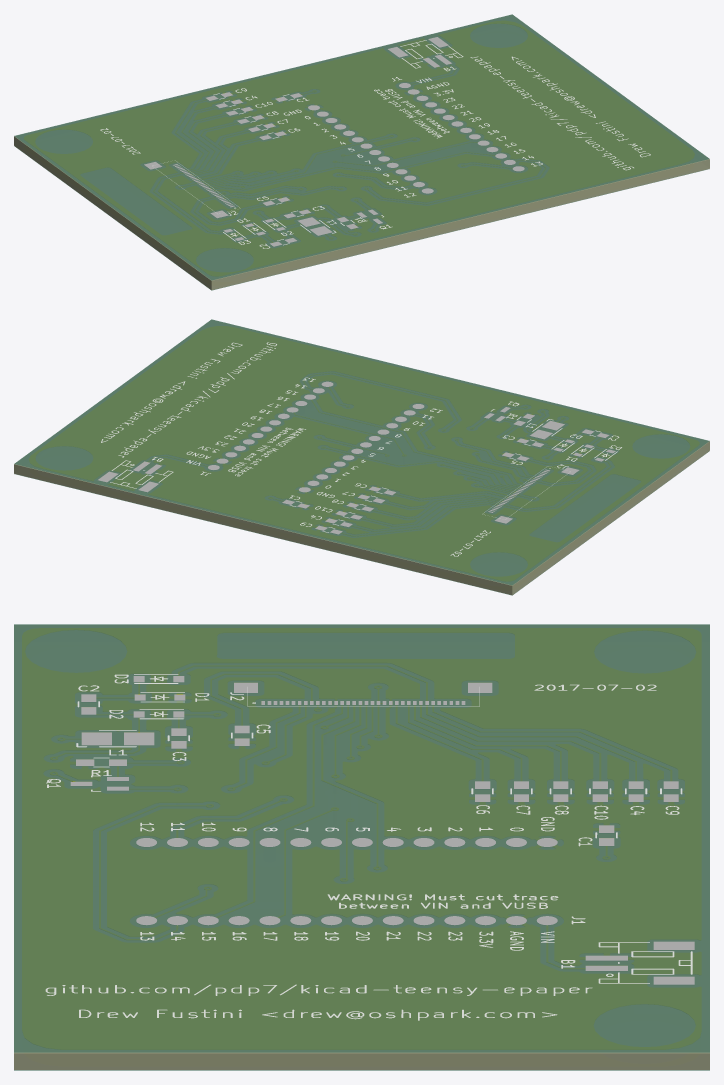
The model's file is e-paper-badge.glb.
3 renders of one model, top to bottom at view 1: azimuth 30°, elevation 25°; view 2: azimuth 150°, elevation 25°; view 3: azimuth 270°, elevation 25°, orthographic. The views are drawn at different scales.
Parts seen in each view (by area): view 1: =>[0:1:1:7], =>[0:1:1:2], =>[0:1:1:9], =>[0:1:1:5]; view 2: =>[0:1:1:7], =>[0:1:1:2], =>[0:1:1:9], =>[0:1:1:5]; view 3: =>[0:1:1:7], =>[0:1:1:2], =>[0:1:1:9], =>[0:1:1:5].
Boxes of the visible parts, left/top/right/bottom form: =>[0:1:1:7]: left=14, top=14, right=709, bottom=290; =>[0:1:1:2]: left=24, top=21, right=694, bottom=275; =>[0:1:1:9]: left=14, top=15, right=709, bottom=290; =>[0:1:1:5]: left=100, top=40, right=650, bottom=248; =>[0:1:1:7]: left=14, top=319, right=709, bottom=595; =>[0:1:1:2]: left=29, top=326, right=698, bottom=580; =>[0:1:1:9]: left=14, top=320, right=709, bottom=595; =>[0:1:1:5]: left=101, top=342, right=621, bottom=556; =>[0:1:1:7]: left=14, top=624, right=709, bottom=1070; =>[0:1:1:2]: left=22, top=628, right=700, bottom=1049; =>[0:1:1:9]: left=14, top=625, right=709, bottom=1069; =>[0:1:1:5]: left=45, top=674, right=692, bottom=1020.
Size of the model in its own units: 0.0835 by 0.00166 by 0.0574.
4 materials, 4 textured.
